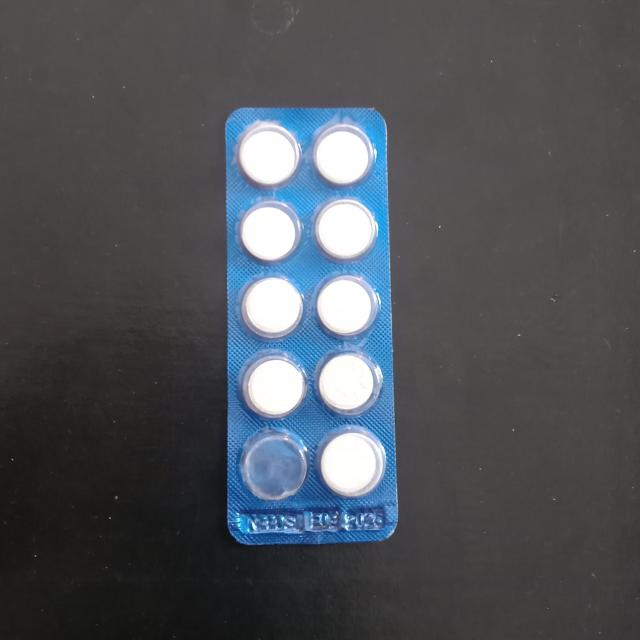defect: (232, 424, 312, 505)
